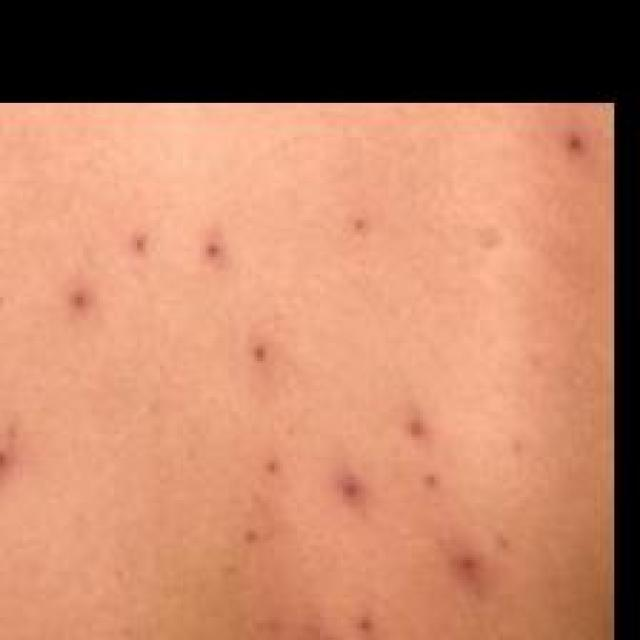others: (6, 104, 597, 640)
